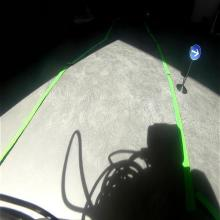right: (188, 43, 203, 61)
